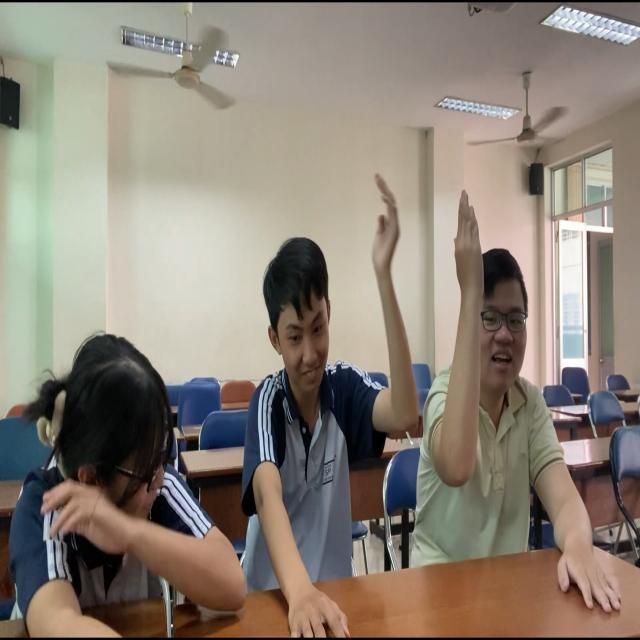raise_hand: (420, 175, 637, 640)
